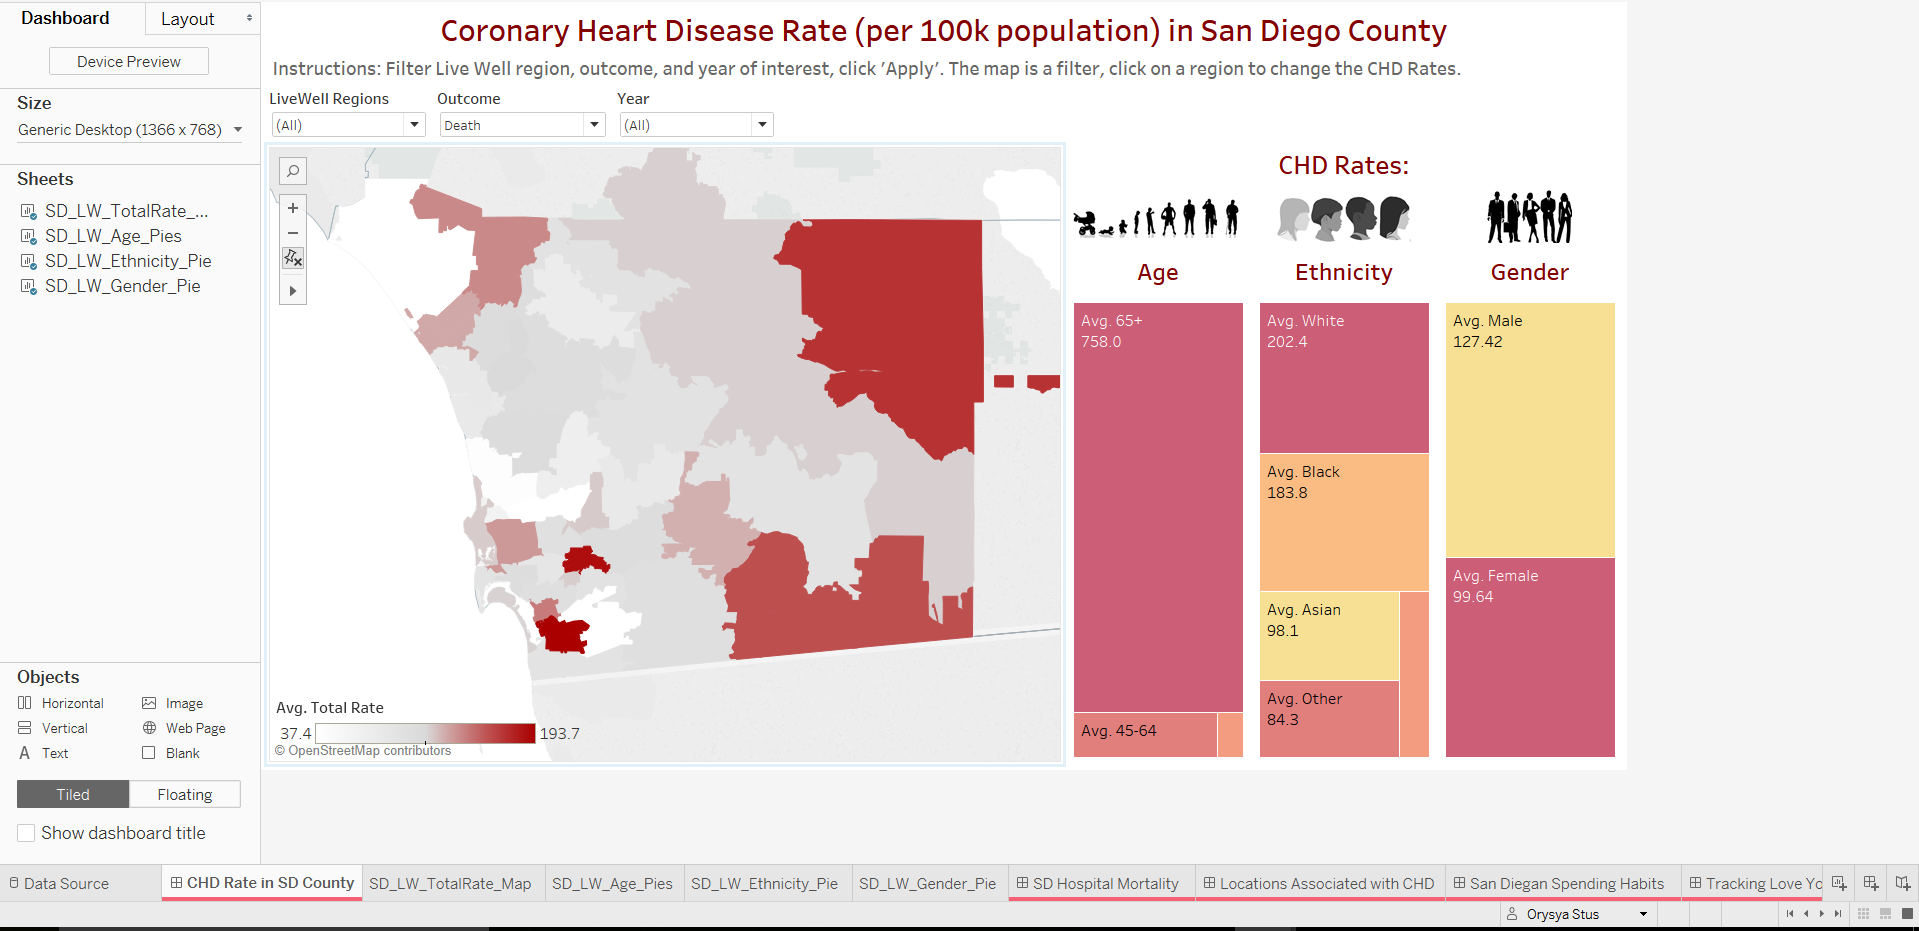

Layout of this report page (visuals, bound fields, positions):
{"tool":"tableau","page":{"name":"CHD Rate in SD County","canvas":[1366,768],"ordinal":0},"visuals":[{"type":"text","box":[0,0,1362,49]},{"type":"text","box":[0,49,1362,33]},{"type":"filter","title":"SD_LW_TotalRate_Map","param":"[federated.0gy949i0m81nc418osz6s0xpvq1k].[none:LiveWell_Regions:nk]","box":[0,82,172,59]},{"type":"filter","title":"SD_LW_TotalRate_Map","param":"[federated.0gy949i0m81nc418osz6s0xpvq1k].[none:OUTCOME:nk]","box":[172,82,180,59]},{"type":"filter","title":"SD_LW_TotalRate_Map","param":"[federated.0gy949i0m81nc418osz6s0xpvq1k].[none:YEAR:ok]","box":[352,82,168,59]},{"type":"worksheet","title":"SD_LW_TotalRate_Map","mark":"Multipolygon","box":[0,141,804,623]},{"type":"text","box":[804,141,558,43]},{"type":"image","param":"Image/images.png","box":[804,184,186,61]},{"type":"image","param":"Image/Capture.PNG","box":[990,184,186,61]},{"type":"image","param":"Image/77455d6e4d0734c1b241ebb3ddc8d241_big-image-png-business-people-clipart-sil","box":[1176,184,186,61]},{"type":"worksheet","title":"SD_LW_Age_Pies","mark":"Automatic","box":[804,245,186,519]},{"type":"worksheet","title":"SD_LW_Ethnicity_Pie","mark":"Automatic","box":[990,245,186,519]},{"type":"worksheet","title":"SD_LW_Gender_Pie","mark":"Automatic","box":[1176,245,186,519]},{"type":"legend","title":"SD_LW_TotalRate_Map","param":"[federated.0gy949i0m81nc418osz6s0xpvq1k].[avg:Total_Rate:qk]","box":[15.2,694.9,308.9,65.1]}]}

Visuals, with their boxes on the page's 1366x768 design canvas (x1, y1, x2, y2). These are canvas units, not pixel positions in the 1919x931 screenshot, which may show the page scaled, cropped or inside an application window:
text: 0, 0, 1362, 49
text: 0, 49, 1362, 82
"SD_LW_TotalRate_Map" filter: 0, 82, 172, 141
"SD_LW_TotalRate_Map" filter: 172, 82, 352, 141
"SD_LW_TotalRate_Map" filter: 352, 82, 520, 141
"SD_LW_TotalRate_Map" worksheet (Multipolygon marks): 0, 141, 804, 764
text: 804, 141, 1362, 184
image: 804, 184, 990, 245
image: 990, 184, 1176, 245
image: 1176, 184, 1362, 245
"SD_LW_Age_Pies" worksheet: 804, 245, 990, 764
"SD_LW_Ethnicity_Pie" worksheet: 990, 245, 1176, 764
"SD_LW_Gender_Pie" worksheet: 1176, 245, 1362, 764
"SD_LW_TotalRate_Map" legend: 15, 695, 324, 760
